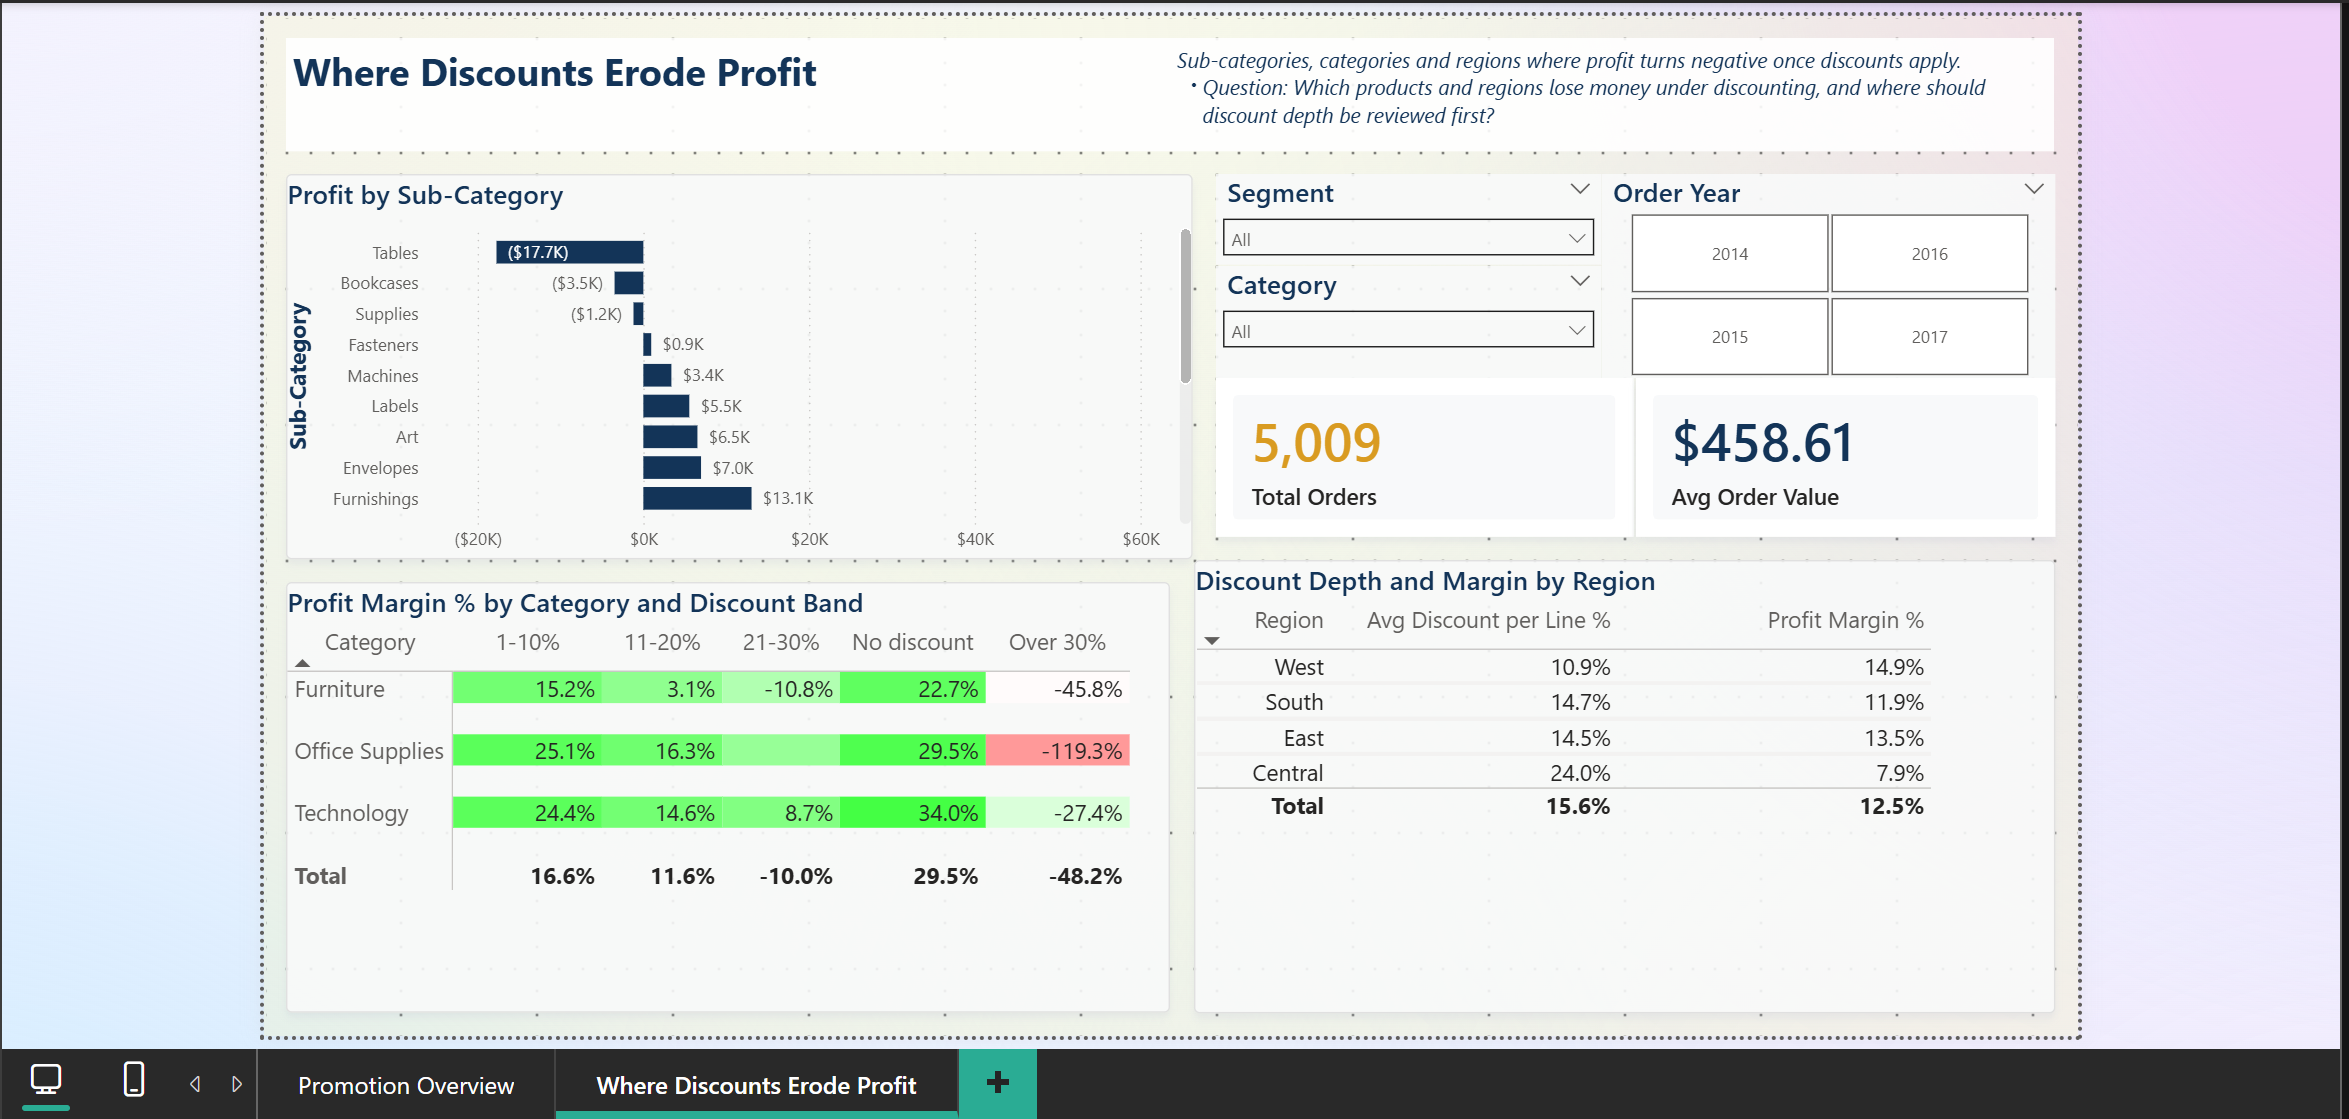

What the dashboard file says about the page in this screenshot:
{"tool":"powerbi","page":{"name":"Where Discounts Erode Profit","canvas":[1280,720],"ordinal":1},"visuals":[{"type":"group","id":"g1","title":"Group 1","box":[16,16,1248,80],"z":0},{"type":"textbox","box":[16,16,624,80],"z":0,"group":"g1"},{"type":"textbox","box":[640,16,624,80],"z":1000,"group":"g1"},{"type":"clusteredBarChart","title":"Profit by Sub-Category","fields":{"Category":["sales_data.Sub-Category"],"Y":["_Measures.Total Profit"]},"box":[16,112,640,272],"z":1000},{"type":"pivotTable","title":"Profit Margin % by Category and Discount Band","fields":{"Rows":["sales_data.Category"],"Columns":["sales_data.Discount Band"],"Values":["_Measures.Profit Margin %"]},"box":[16,400,624,304],"z":2000},{"type":"tableEx","title":"Discount Depth and Margin by Region","fields":{"Values":["sales_data.Region","_Measures.Avg Discount per Line %","_Measures.Profit Margin %"]},"box":[656,384,608,320],"z":3000},{"type":"slicer","fields":{"Values":["sales_data.Segment"]},"box":[672,112,272,64],"z":4000},{"type":"slicer","fields":{"Values":["sales_data.Order Date.Variation.Date Hierarchy.Year"]},"box":[944,112,320,144],"z":5000},{"type":"slicer","fields":{"Values":["sales_data.Category"]},"box":[672,176,272,80],"z":6000},{"type":"cardVisual","fields":{"Data":["_Measures.Total Orders"]},"box":[672,256,294.9,112],"z":6000,"group":"g2"},{"type":"group","id":"g2","title":"Group 2","box":[672,256,592,112],"z":7000},{"type":"cardVisual","title":"card","fields":{"Data":["sales_data.Average Order Value"]},"box":[968,256,296,112],"z":7000,"group":"g2"}]}

Visuals, with their boxes on the page's 1280x720 design canvas (x1, y1, x2, y2). These are canvas units, not pixel positions in the 2349x1119 screenshot, which may show the page scaled, cropped or inside an application window:
"Group 1" group: (16, 16, 1264, 96)
textbox: (16, 16, 640, 96)
textbox: (640, 16, 1264, 96)
"Profit by Sub-Category" clusteredBarChart: (16, 112, 656, 384)
"Profit Margin % by Category and Discount Band" pivotTable: (16, 400, 640, 704)
"Discount Depth and Margin by Region" tableEx: (656, 384, 1264, 704)
slicer - sales_data.Segment: (672, 112, 944, 176)
slicer - sales_data.Order Date.Variation.Date Hierarchy.Year: (944, 112, 1264, 256)
slicer - sales_data.Category: (672, 176, 944, 256)
cardVisual - _Measures.Total Orders: (672, 256, 967, 368)
"Group 2" group: (672, 256, 1264, 368)
"card" cardVisual: (968, 256, 1264, 368)
